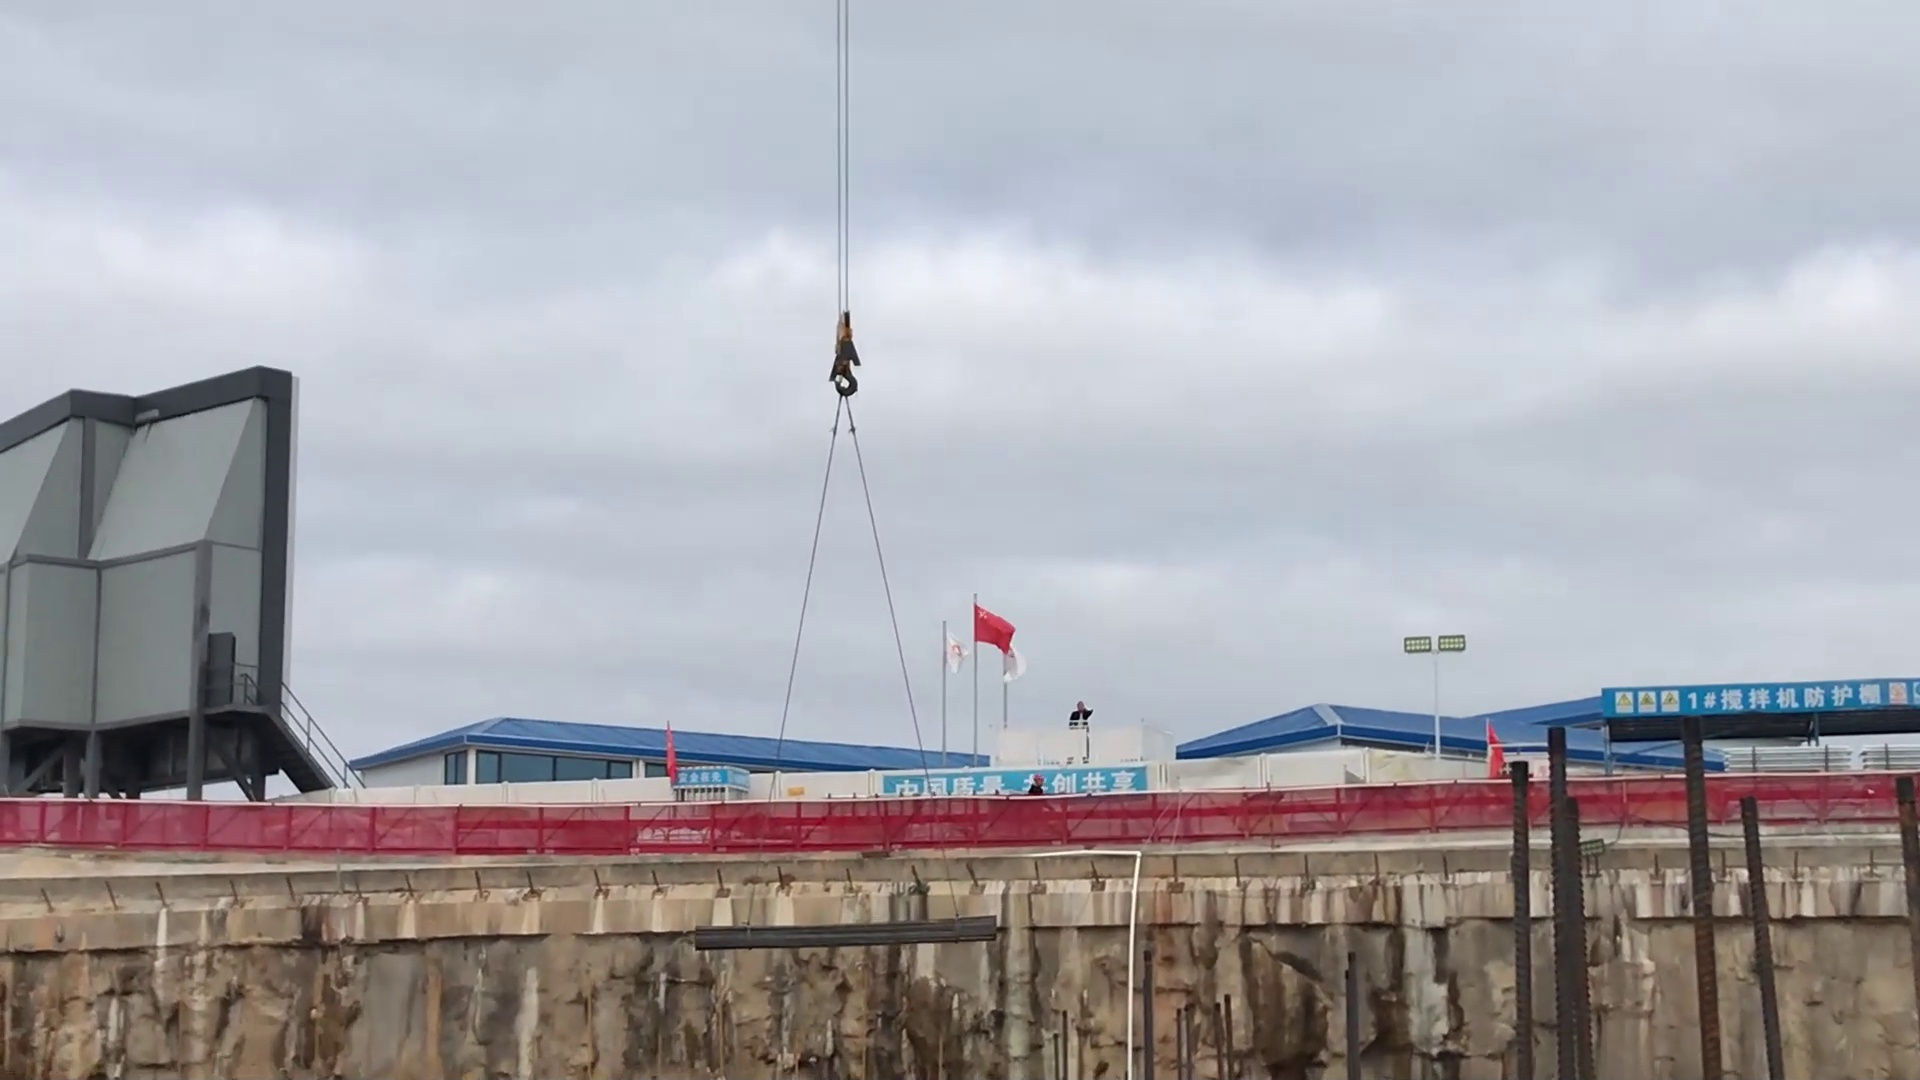fence: (1, 764, 1909, 868)
hook: (819, 305, 874, 405)
rebar: (690, 914, 1005, 956)
slogan: (880, 757, 1155, 800)
